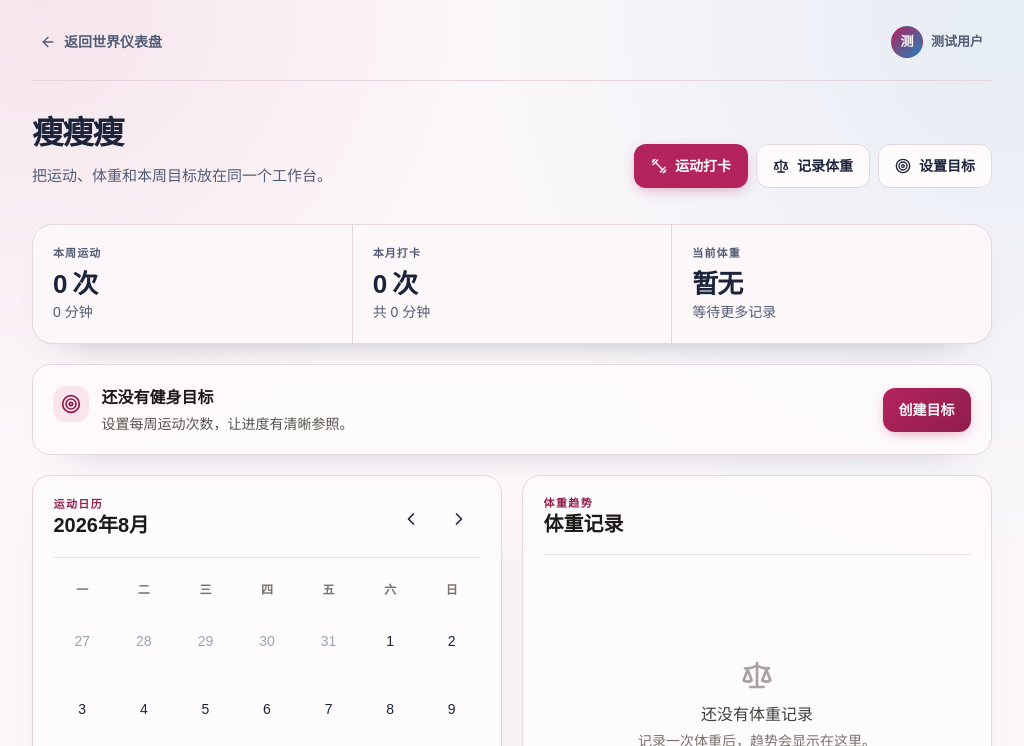
fitness routing › renders a fitness shell with all three dialogs opening and cancelling
This screenshot has width=1024, height=746.
Check: the heading "瘦瘦瘦" is shown, box [32,115,123,151]
Click the button "运动打卡" at (691, 166), box [634,144,748,188]
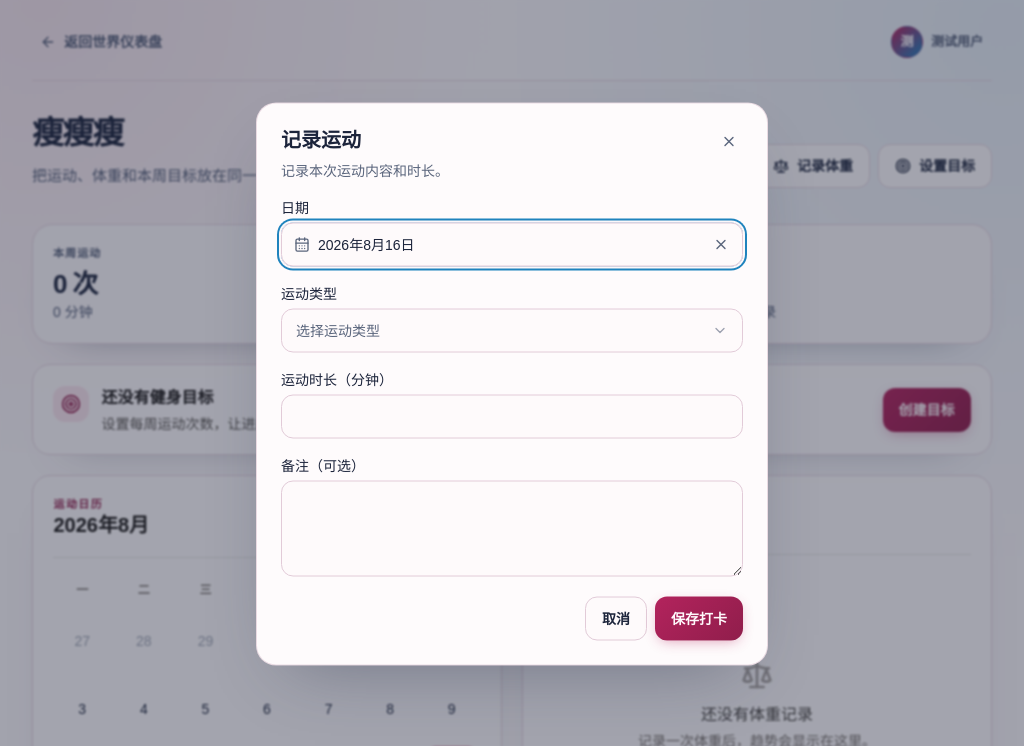
Check: the dialog "记录运动" is shown, box [256,102,768,666]
Click the button "取消" at (616, 618), box [585,596,647,640]
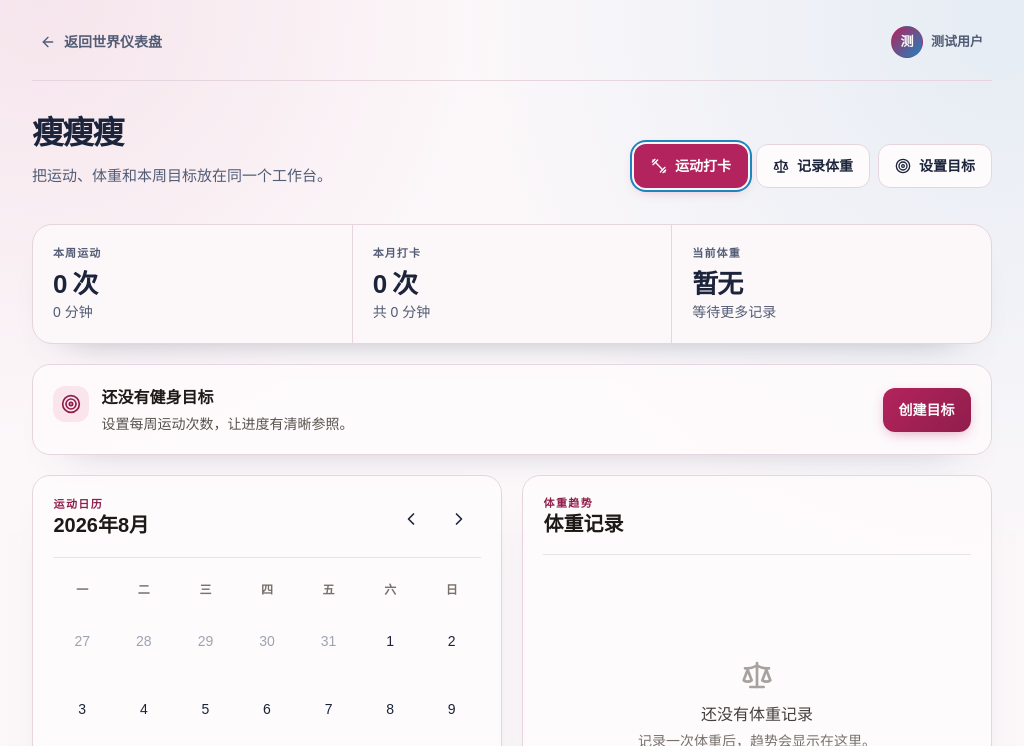
Check: the heading "记录运动" is gone
Click the button "记录体重" at (813, 166), box [756,144,870,188]
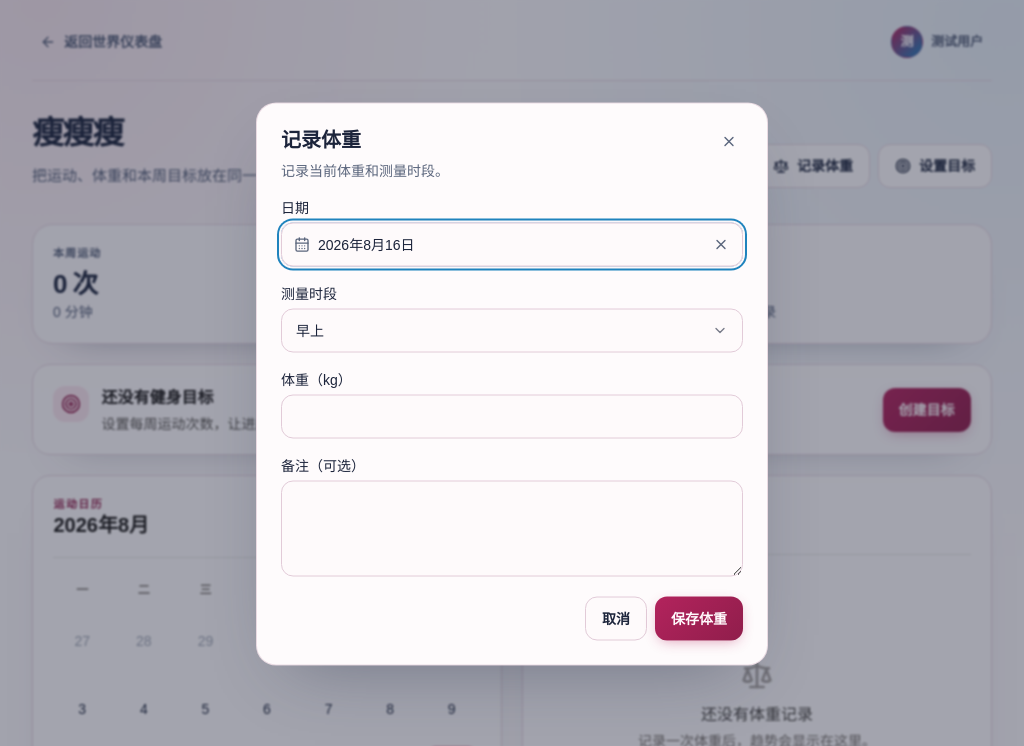
Check: the dialog "记录体重" is shown, box [256,102,768,666]
Click the button "取消" at (616, 618), box [585,596,647,640]
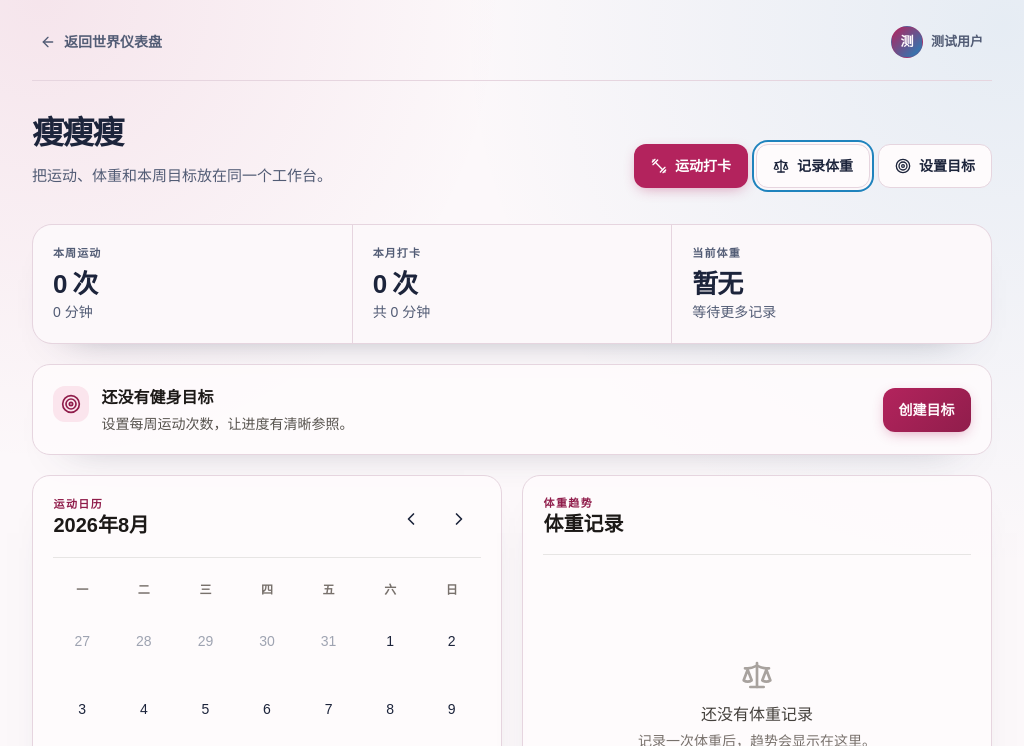
Click the button "设置目标" at (935, 166), box [878,144,992,188]
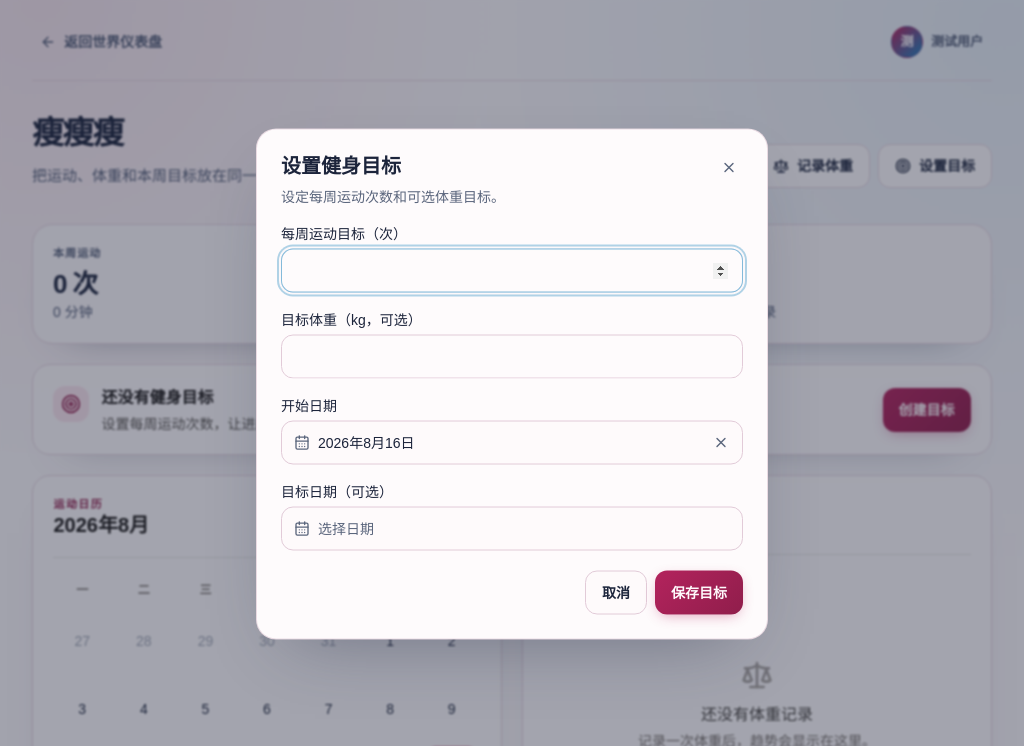
Check: the dialog "设置健身目标" is shown, box [256,128,768,640]
Click the button "取消" at (616, 592), box [585,570,647,614]
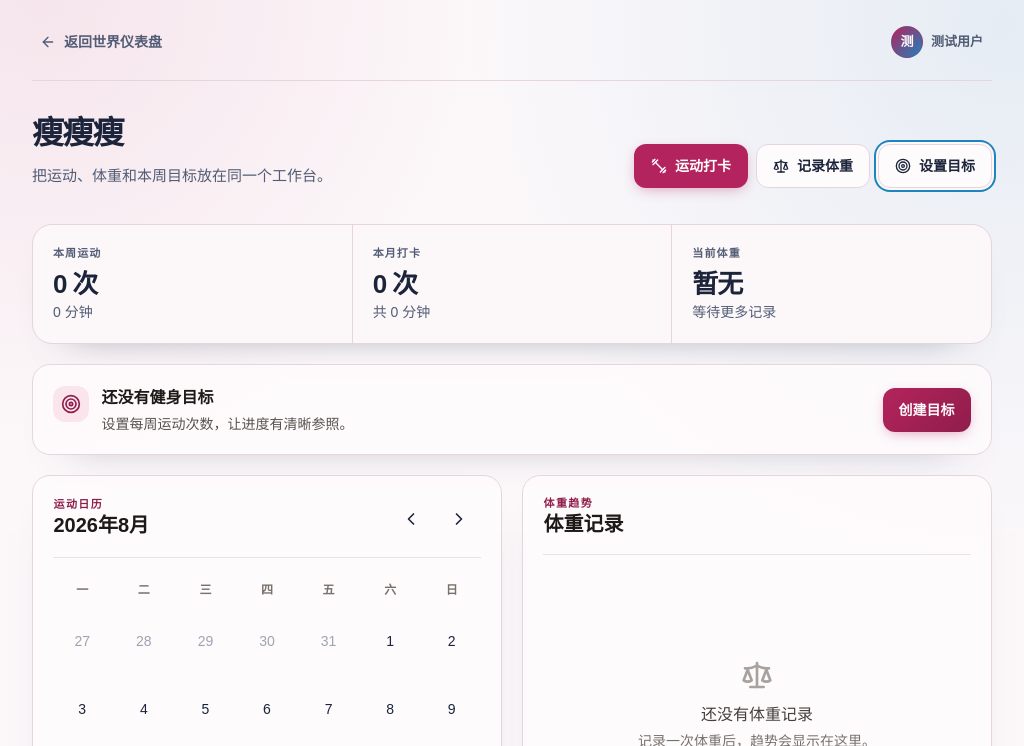
Check: the heading "设置健身目标" is gone
